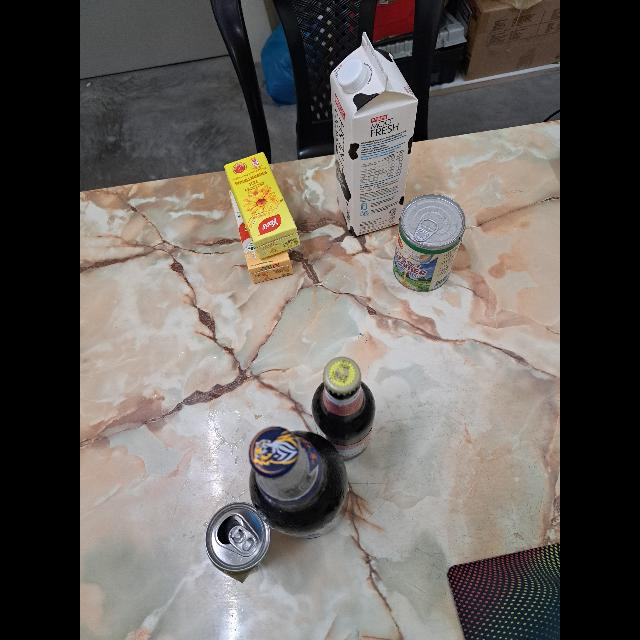aba de lata: (228, 526, 258, 556), (414, 218, 440, 242)
caixinha: (332, 31, 418, 237), (226, 152, 300, 258), (228, 188, 294, 284)
garrafa de vidro: (249, 426, 349, 538), (312, 356, 376, 460)
lata: (394, 195, 466, 292), (206, 502, 270, 584)
tampa plástica: (337, 58, 368, 92)
